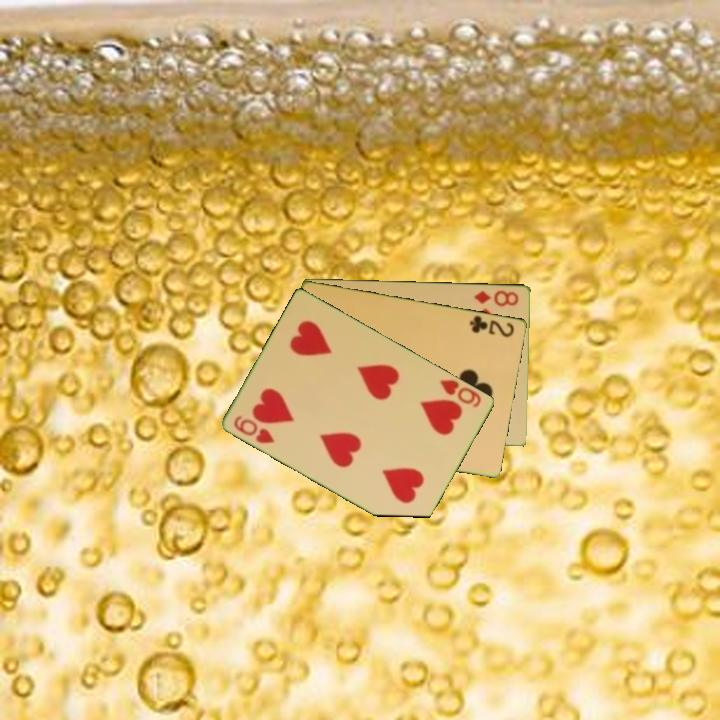2c: (466, 312, 517, 340)
6h: (436, 376, 485, 410), (231, 412, 278, 446)
8d: (470, 287, 521, 309)
